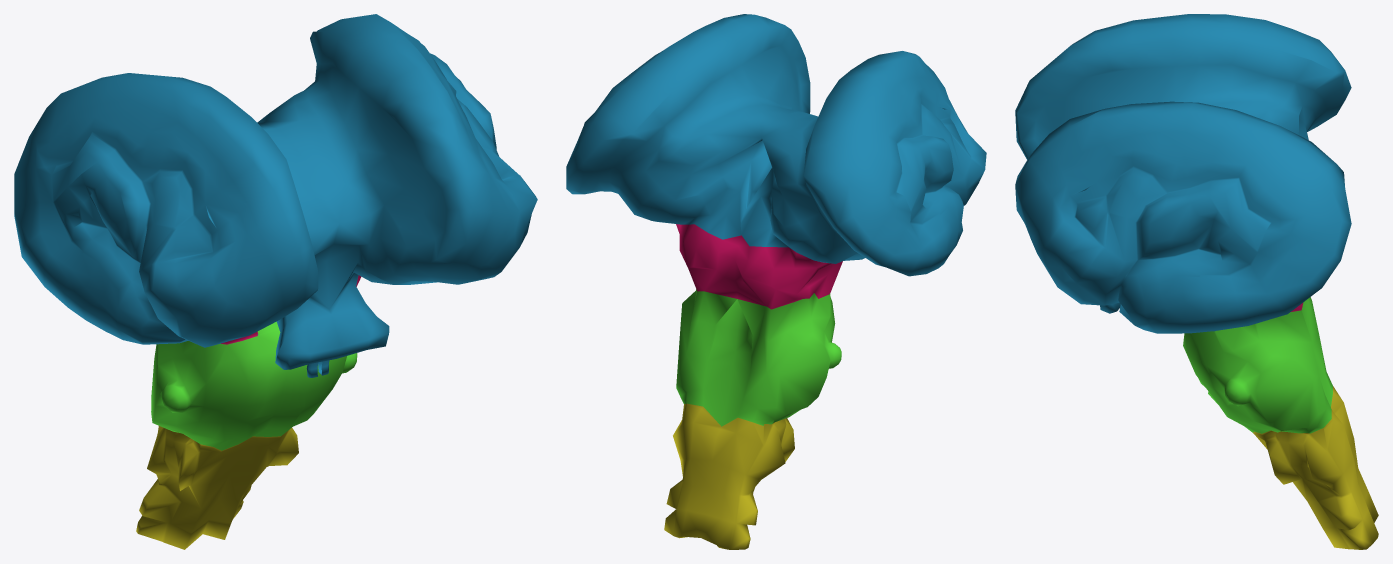
File: brain_stem_3_parts.glb
3 renders of one model, left to right at view 1: azimuth 30°, elevation 25°; view 2: azimuth 150°, elevation 25°; view 3: azimuth 270°, elevation 25°, orthographic. The views are drawn at different scales.
Visible parts, largest first — view 1: Brain_Part_05; view 2: Brain_Part_05; view 3: Brain_Part_05.
Part boxes in pixels (<box>): Brain_Part_05: <box>14,14,537,549</box>; Brain_Part_05: <box>566,14,986,549</box>; Brain_Part_05: <box>1015,14,1378,549</box>.
Bounding box in the file's own units: 2.41 × 2.92 × 2.02.
